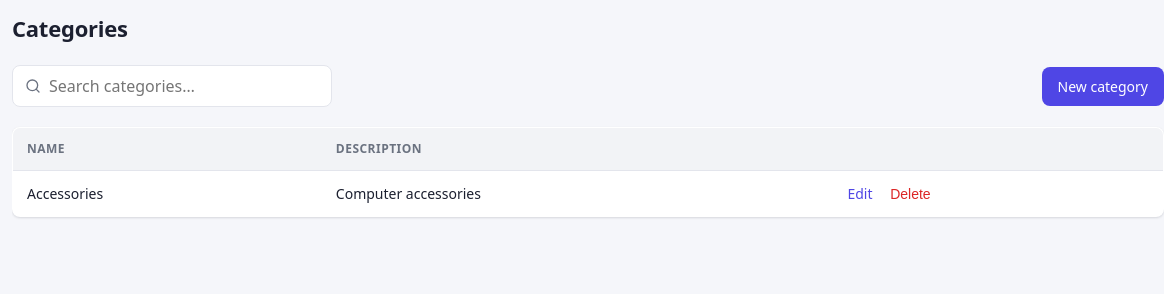
CategoriesPage › shows an alert when deletion is blocked because the category is referenced by products
Expected: the text "Accessories" is shown, [12,170,322,216]
Click the button "Delete": x=910, y=194 [890,186,931,202]
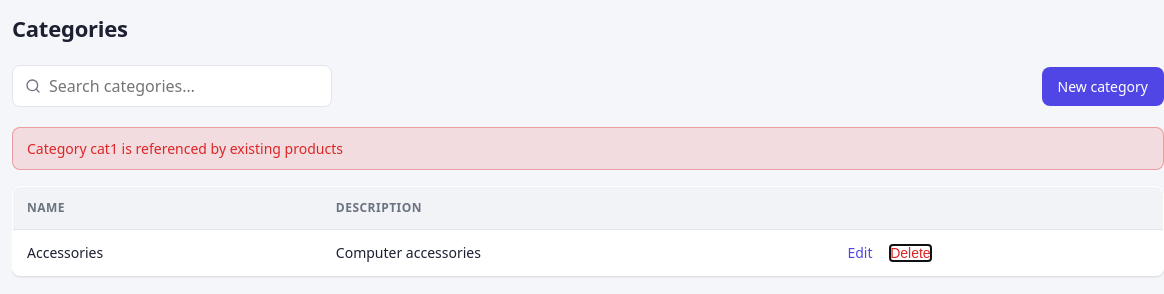
Expected: the text "Accessories" is shown, [12,230,322,276]
Expected: the message reads "Category cat1 is referenced by existing products", [27,139,343,158]
